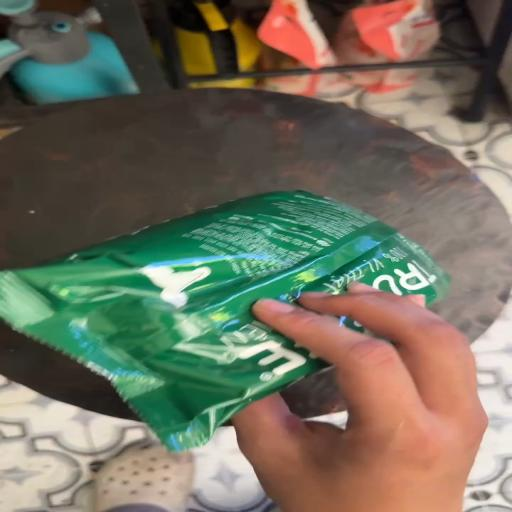cafe_xay: (0, 191, 448, 450)
